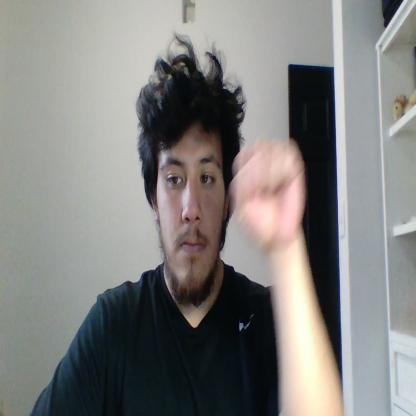S: (232, 135, 306, 248)
